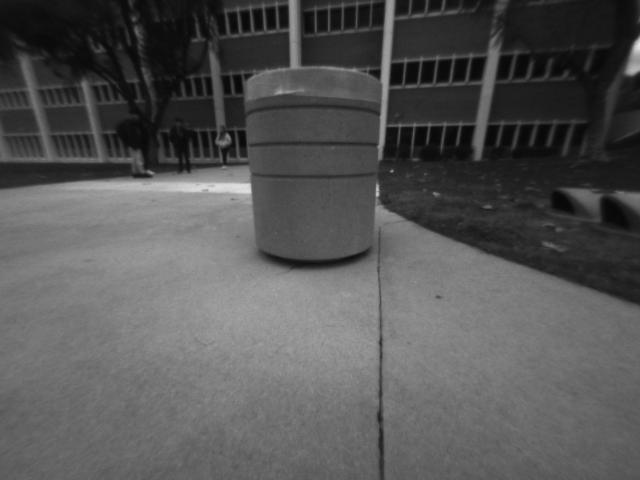trashcan: (241, 62, 388, 264)
